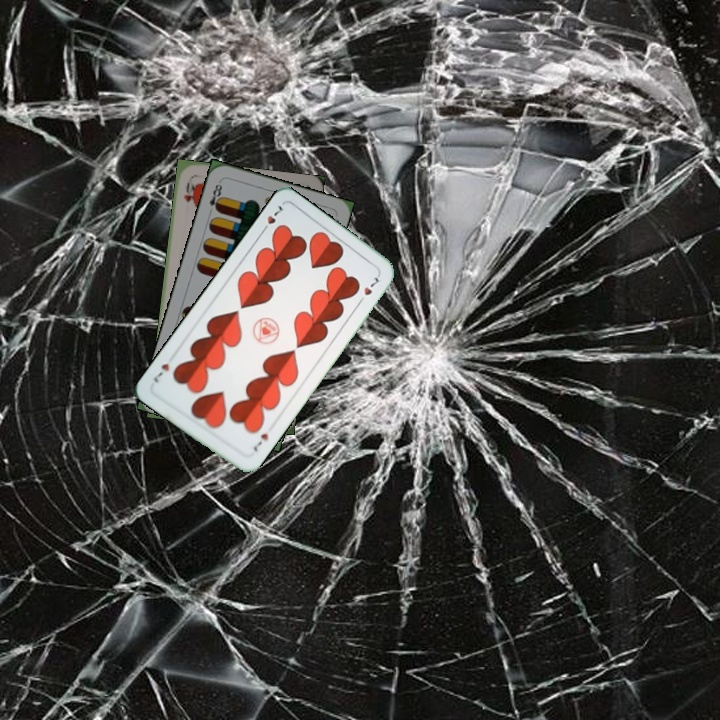E8: (205, 177, 225, 217)
H7: (257, 201, 286, 236), (249, 429, 271, 454)
HO: (180, 178, 197, 206)
